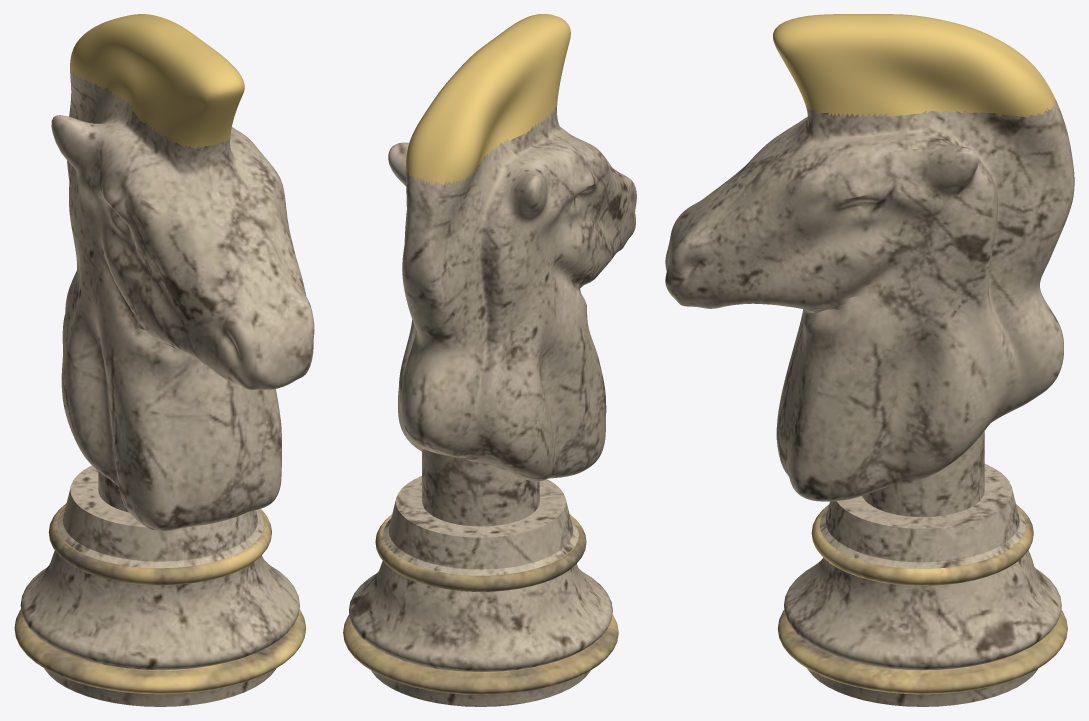
3 renders of one model, left to right at view 1: azimuth 30°, elevation 25°; view 2: azimuth 150°, elevation 25°; view 3: azimuth 270°, elevation 25°, orthographic. The views are drawn at different scales.
Parts seen in each view (by area): view 1: x; view 2: x; view 3: x.
Boxes of the visible parts, x1,y1,x2,y2 form: x: (14,14,314,706); x: (343,14,636,706); x: (665,14,1074,706).
Bounding box in the file's own units: 0.3718 × 0.9 × 0.5244.
2 materials, 1 textured.
